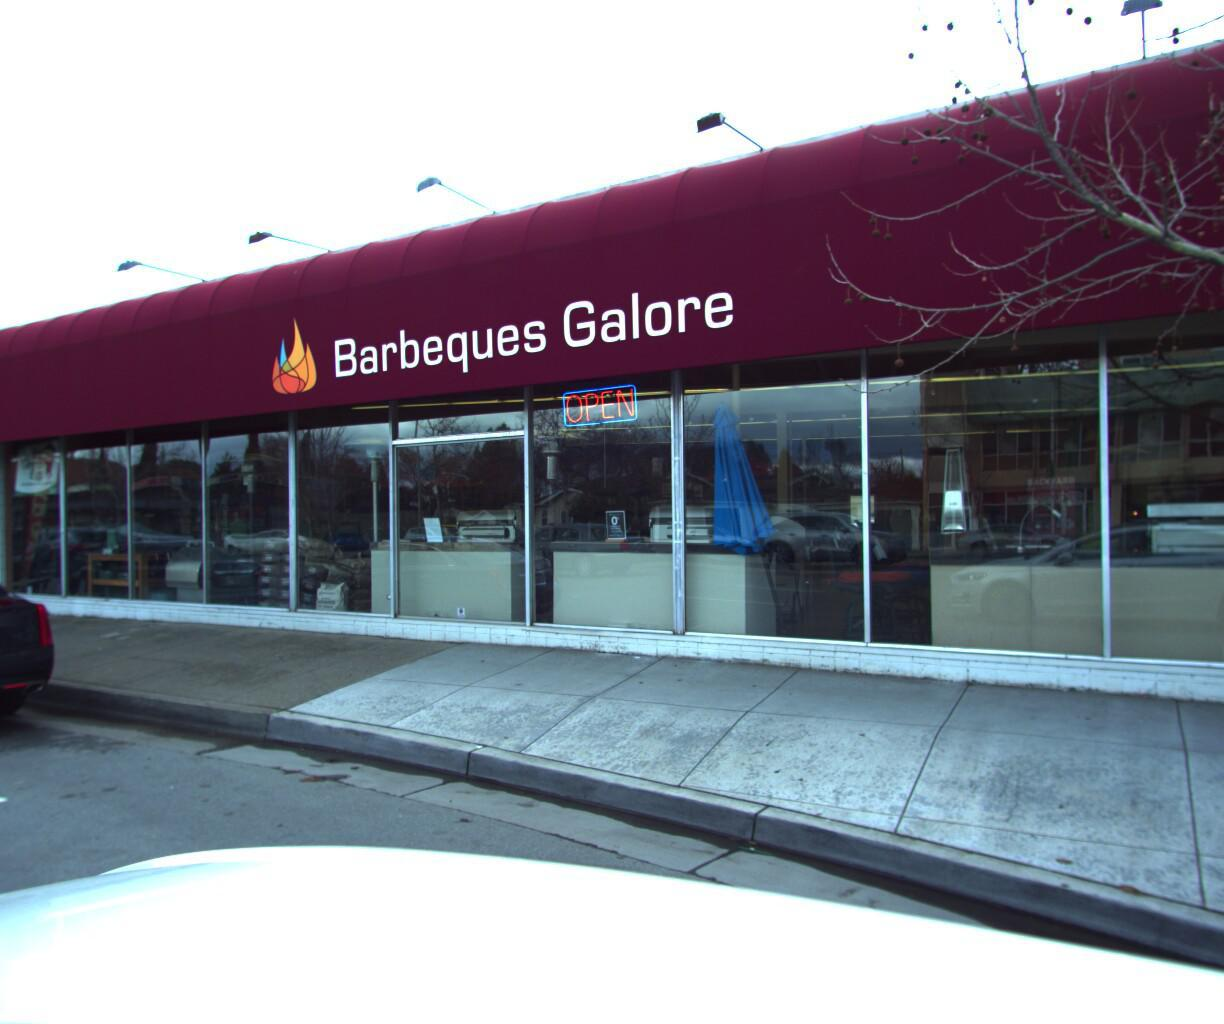car: (0, 531, 96, 789)
